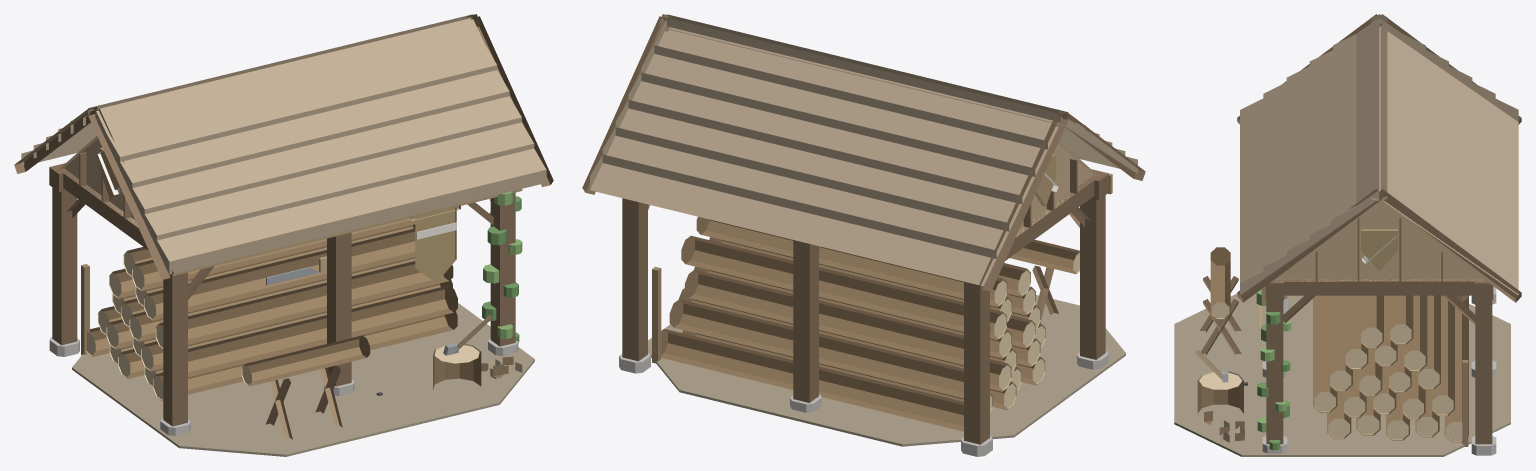
File: lumber_camp_3.glb
3 views of the same model, side by side, from view 1: azimuth 30°, elevation 25°; view 2: azimuth 150°, elevation 25°; view 3: azimuth 270°, elevation 25° (orthographic). The views are drawn at different scales.
Parts seen in each view (by area): view 1: Ground, Roof, Roof#2, Roof#5, Roof#3, Roof#4, Roof#6, Log#10, Log#14, Log#17, Post#2, Post (+19 smaller); view 2: Roof#7, Ground, Roof#8, Roof#9, Roof#10, Roof#11, Roof#12, Log, Log#6, Log#15, Log#11, Log#18 (+19 smaller); view 3: Ground, Gable#2, Roof#4, Roof, Roof#2, Roof#3, Roof#5, Roof#7, Roof#6, Roof#8, Roof#9, Roof#11 (+52 smaller).
Part boxes in pixels (x1,y1,x2,y2): Ground: (72, 303, 534, 456); Roof: (157, 148, 546, 274); Roof#2: (144, 122, 534, 247); Roof#5: (107, 44, 497, 169); Roof#3: (132, 96, 521, 221); Roof#4: (120, 70, 509, 195); Roof#6: (95, 17, 484, 143); Log#10: (188, 285, 457, 377); Log#14: (155, 261, 453, 348); Log#17: (144, 228, 415, 320); Post#2: (52, 163, 77, 345); Post: (163, 272, 187, 426); Roof#7: (590, 154, 996, 286); Ground: (648, 295, 1125, 446); Roof#8: (602, 127, 1009, 258); Roof#9: (615, 100, 1022, 231); Roof#10: (628, 72, 1035, 203); Roof#11: (641, 45, 1047, 175); Roof#12: (654, 19, 1058, 149); Log: (654, 329, 963, 431); Log#6: (669, 299, 963, 398); Log#15: (681, 235, 1006, 340); Log#11: (685, 270, 963, 365); Log#18: (696, 216, 1007, 306); Ground: (1174, 293, 1510, 456); Gable#2: (1275, 201, 1483, 281); Roof#4: (1309, 50, 1332, 246); Roof: (1240, 98, 1263, 295); Roof#2: (1263, 82, 1286, 278); Roof#3: (1286, 66, 1309, 262); Roof#5: (1333, 34, 1356, 230); Roof#7: (1495, 99, 1518, 295); Roof#6: (1356, 18, 1379, 214); Roof#8: (1472, 82, 1495, 279); Roof#9: (1449, 66, 1472, 262); Roof#11: (1402, 34, 1425, 230).
Bounding box in the file's own units: 5.46 × 3.91 × 4.49.
